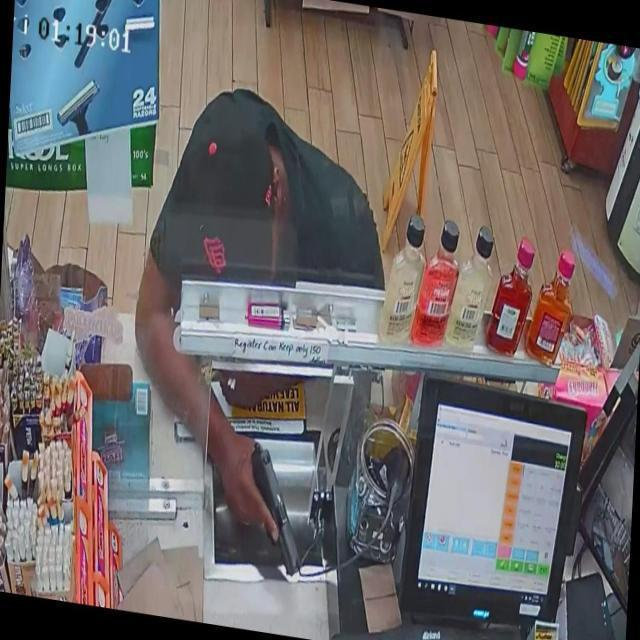pistol: (250, 444, 305, 578)
